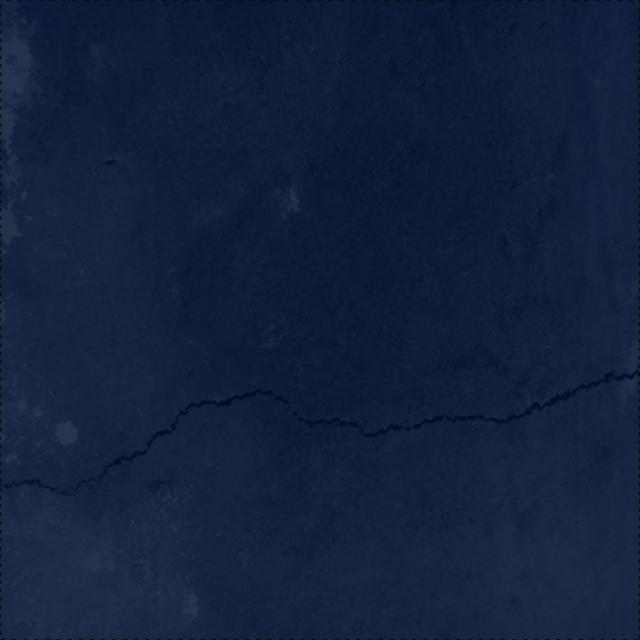crack: (0, 371, 640, 496)
